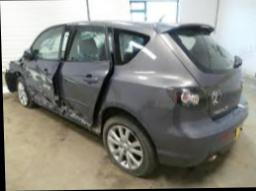Door: (27, 25, 75, 110), (60, 90, 103, 130)
